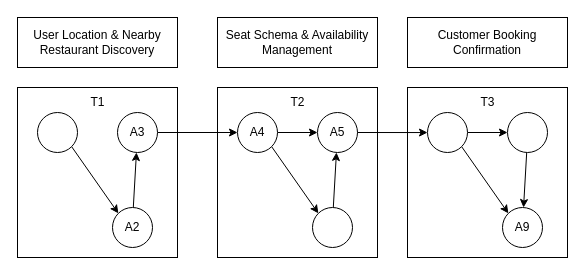
The diagram is 585 pixels wide and 275 high, and some of its shapes have lost their labels. Each missing label, with the centre of its shape:
"A1" goes at pixel 57 132.
"A6" goes at pixel 332 227.
"A7" goes at pixel 447 132.
"A8" goes at pixel 527 132.
